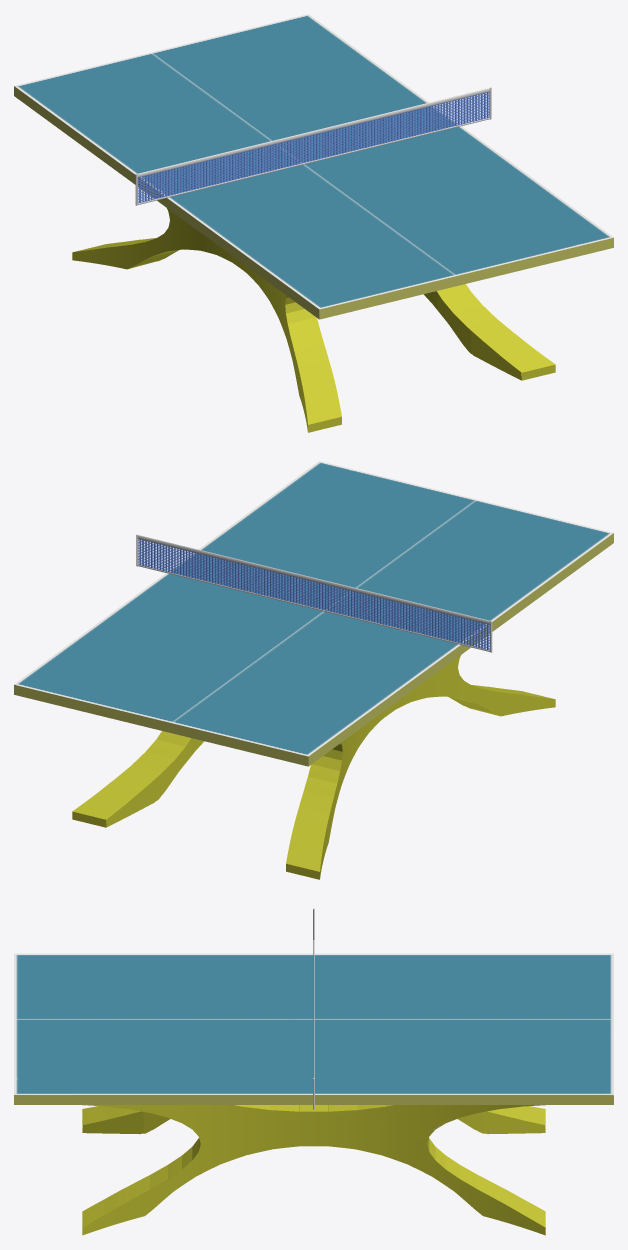
The model's file is RioTable.fbx.
3 renders of one model, top to bottom at view 1: azimuth 30°, elevation 25°; view 2: azimuth 150°, elevation 25°; view 3: azimuth 270°, elevation 25°, orthographic.
Visible parts, largest first — view 1: 桌面.001, 桌腿.001, 新网.002, 上下边框.002; view 2: 桌面.001, 桌腿.001, 新网.002, 上下边框.002; view 3: 桌面.001, 桌腿.001.
Part boxes in pixels (box(x1,y1,x2,y2)): 桌面.001: box(14, 14, 613, 319); 桌腿.001: box(72, 208, 555, 432); 新网.002: box(137, 92, 489, 203); 上下边框.002: box(137, 88, 490, 204); 桌面.001: box(14, 461, 613, 766); 桌腿.001: box(72, 655, 555, 879); 新网.002: box(138, 539, 490, 650); 上下边框.002: box(137, 535, 490, 651); 桌面.001: box(14, 953, 613, 1104); 桌腿.001: box(82, 1105, 545, 1235).
Size of the model in its own units: 184 by 91.84 by 274.
3 materials, 2 textured.
